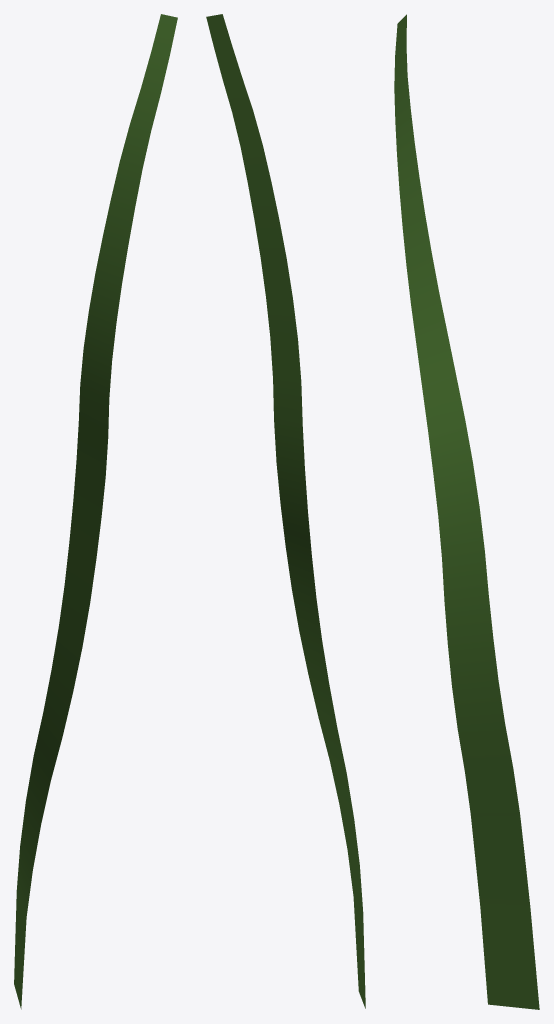
The model's file is plant_swamp_kelp_giant_B_solo_D.fbx.
The picture shows the model from 3 angles, left to right: view 1: azimuth 30°, elevation 25°; view 2: azimuth 210°, elevation 25°; view 3: azimuth 270°, elevation 25°; orthographic projection. The views are drawn at different scales.
Parts seen in each view (by area): view 1: plant_swamp_kelp_giant_B_solo_D; view 2: plant_swamp_kelp_giant_B_solo_D; view 3: plant_swamp_kelp_giant_B_solo_D.
Part boxes in pixels (x1=…): plant_swamp_kelp_giant_B_solo_D: x1=14, y1=14, x2=177, y2=1009; plant_swamp_kelp_giant_B_solo_D: x1=206, y1=14, x2=365, y2=1008; plant_swamp_kelp_giant_B_solo_D: x1=394, y1=14, x2=539, y2=1009.
Bounding box in the file's own units: 62.46 × 527 × 66.58.
